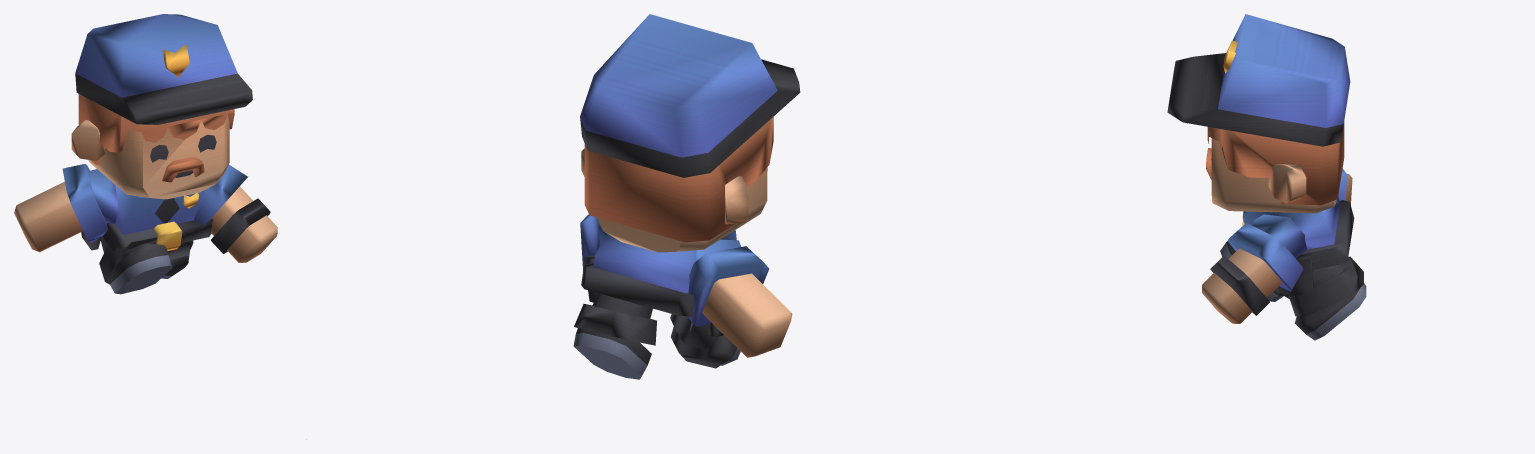
File: leader_sprint_7.glb
The picture shows the model from 3 angles, left to right: view 1: azimuth 30°, elevation 25°; view 2: azimuth 150°, elevation 25°; view 3: azimuth 270°, elevation 25°; orthographic projection. The views are drawn at different scales.
Parts seen in each view (by area): view 1: leader-sprint-7; view 2: leader-sprint-7; view 3: leader-sprint-7.
Boxes of the visible parts, left/top/right/bottom form: leader-sprint-7: left=14, top=14, right=277, bottom=294; leader-sprint-7: left=573, top=14, right=800, bottom=379; leader-sprint-7: left=1167, top=14, right=1366, bottom=340.
Size of the model in its own units: 1.2 by 0.8752 by 1.2.
1 material, 1 textured.
